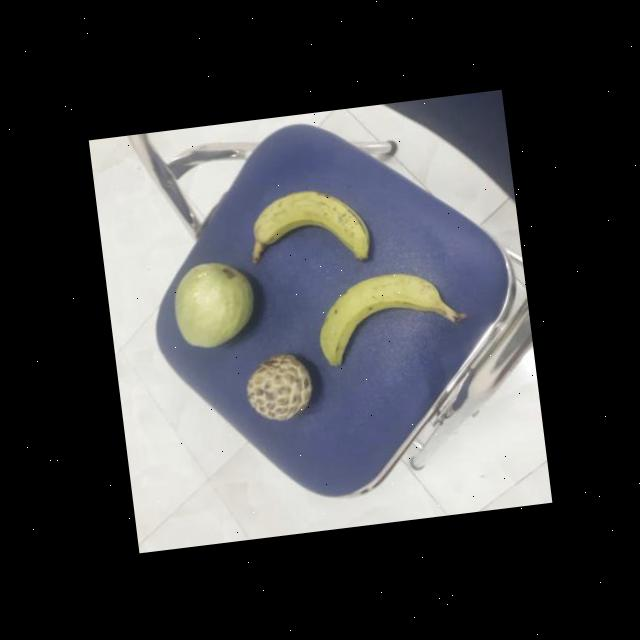Sakya fruit: (241, 351, 316, 428)
banana: (315, 266, 449, 371), (242, 183, 372, 278)
guava: (167, 254, 260, 354)
